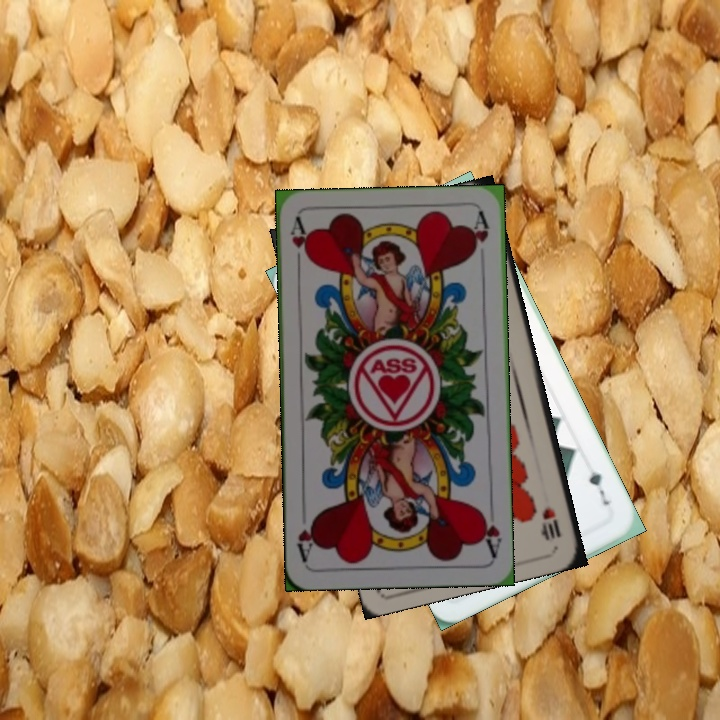G7: (584, 467, 612, 508)
H10: (538, 503, 563, 543)
HA: (476, 500, 504, 559), (286, 215, 311, 274)
